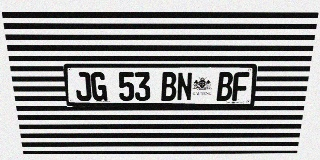3: (134, 72, 150, 101)
5: (118, 72, 134, 101)
B: (216, 72, 233, 101), (161, 72, 176, 101)
F: (232, 72, 249, 101)
G: (90, 72, 107, 101)
J: (74, 72, 92, 101)
N: (177, 72, 193, 101)
